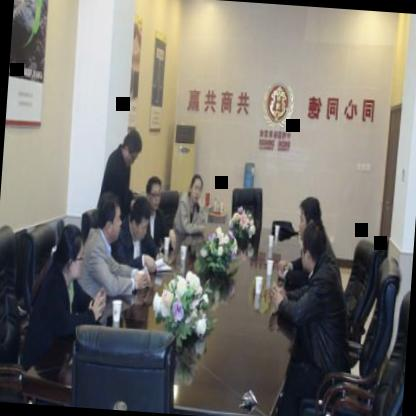head: (296, 212, 328, 268), (58, 218, 86, 280), (95, 194, 128, 245), (294, 192, 326, 242), (127, 196, 154, 246), (118, 124, 146, 171), (143, 173, 165, 212), (189, 170, 208, 206)
